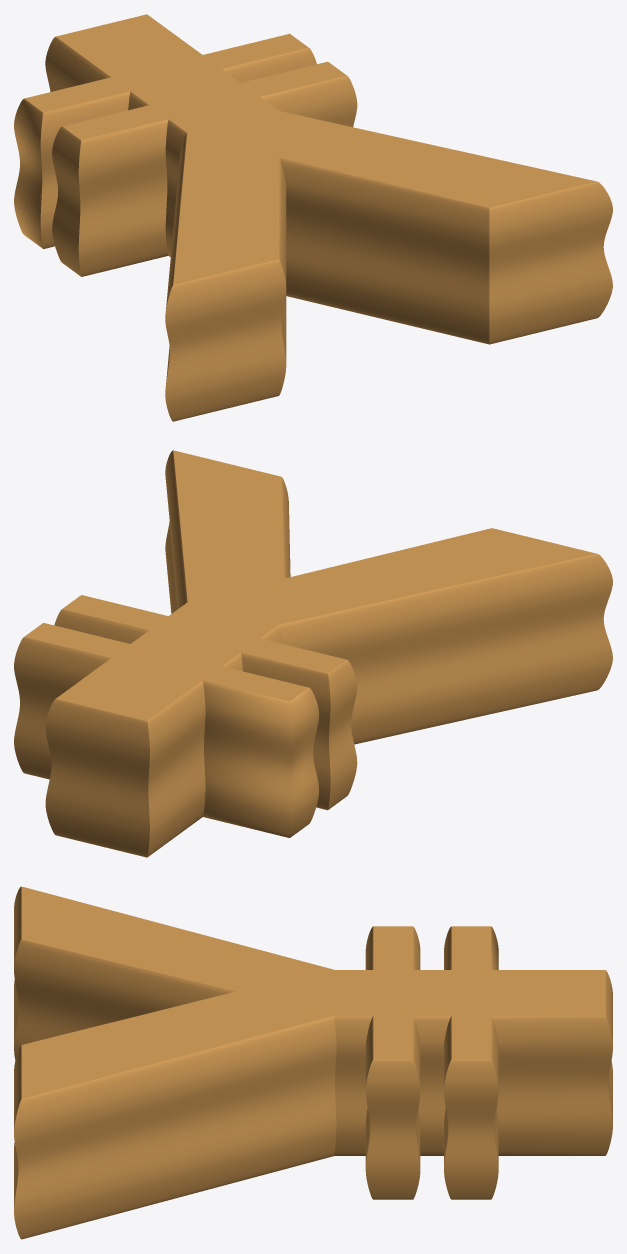
Rendered from yen.fbx.
3 views of the same model, one above another, from view 1: azimuth 30°, elevation 25°; view 2: azimuth 150°, elevation 25°; view 3: azimuth 270°, elevation 25° (orthographic). The views are drawn at different scales.
Visible parts, largest first — view 1: Text001; view 2: Text001; view 3: Text001.
Boxes of the visible parts, x1,y1,x2,y2 form: Text001: [14, 14, 612, 421]; Text001: [14, 450, 612, 857]; Text001: [14, 886, 612, 1239].
Size of the model in its own units: 4.4 by 1.28 by 4.97.
